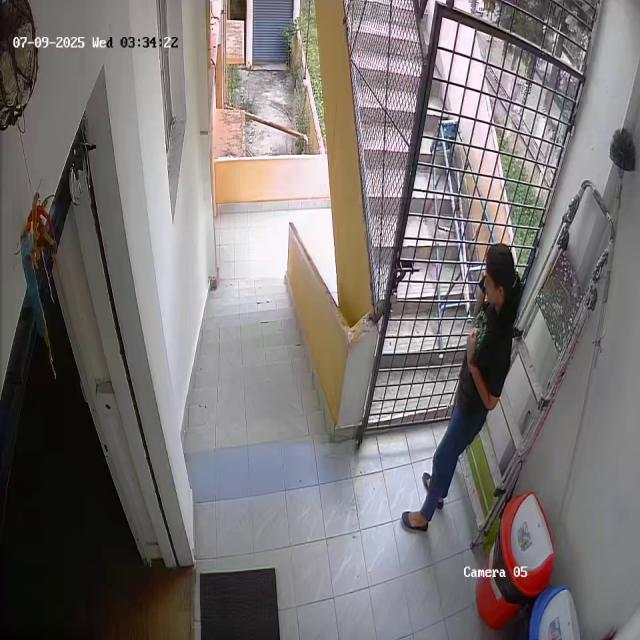person: (394, 234, 520, 536)
